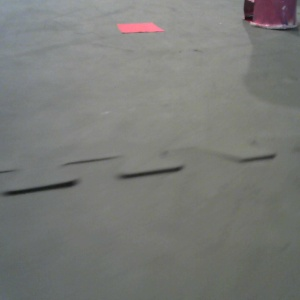middle: (62, 1, 135, 51)
